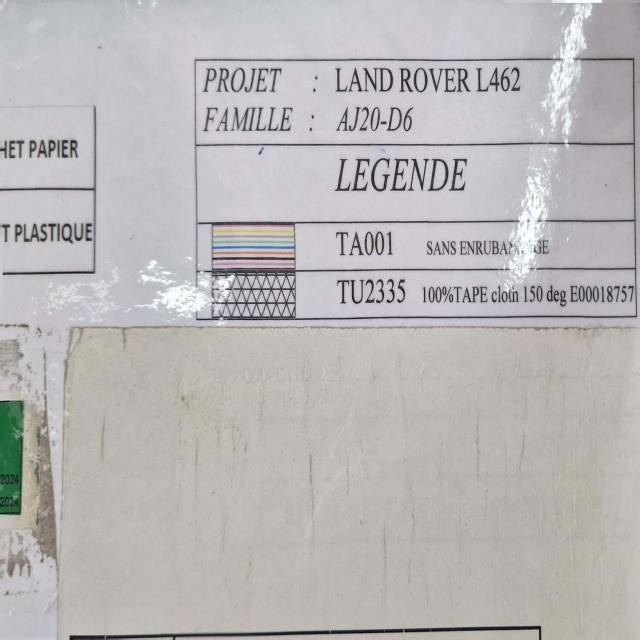Etiquette_Famille_AJ20_D-: (182, 35, 640, 339)
